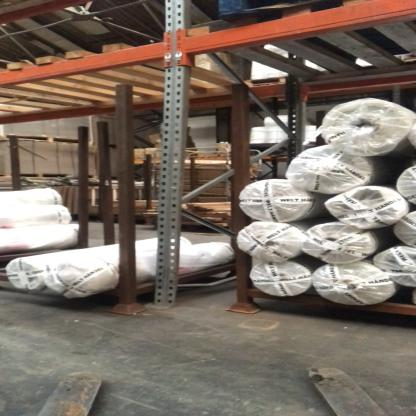vertical_damage: (146, 297, 197, 314)
